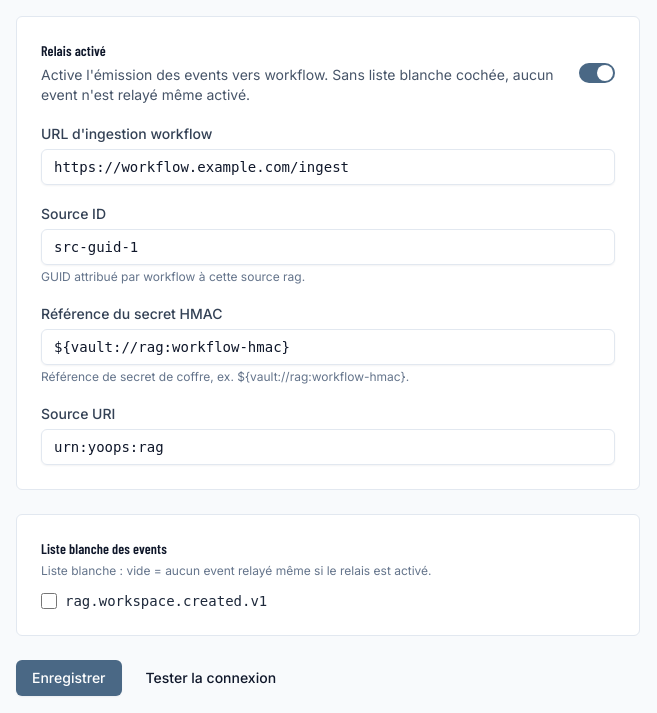
EventsProducerPage › affiche l'échec test avec status_code et detail
This screenshot has width=657, height=713.
(page scrolled)
Click the button "Tester la connexion". click: (211, 678)
box: 130,660 -> 292,696
(page scrolled)
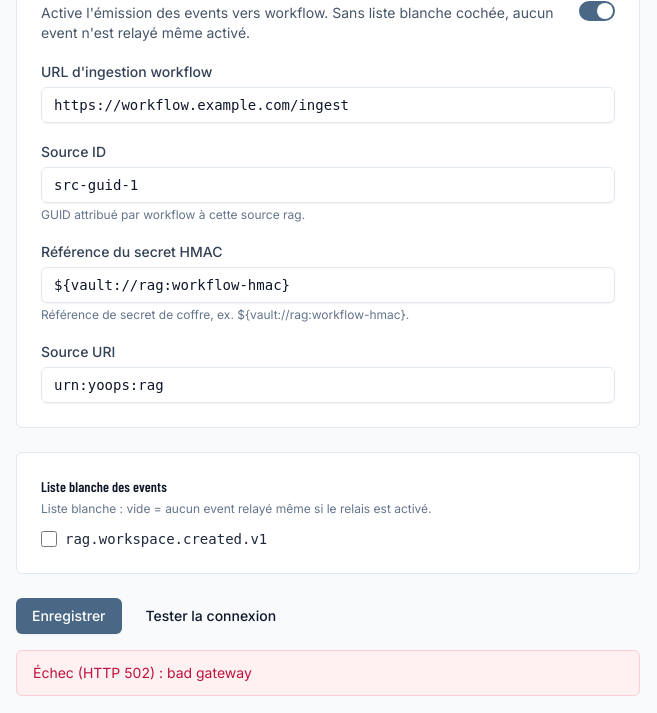
Result: the text "Échec (HTTP 502) : bad gateway" is shown at 16,650 -> 640,696
